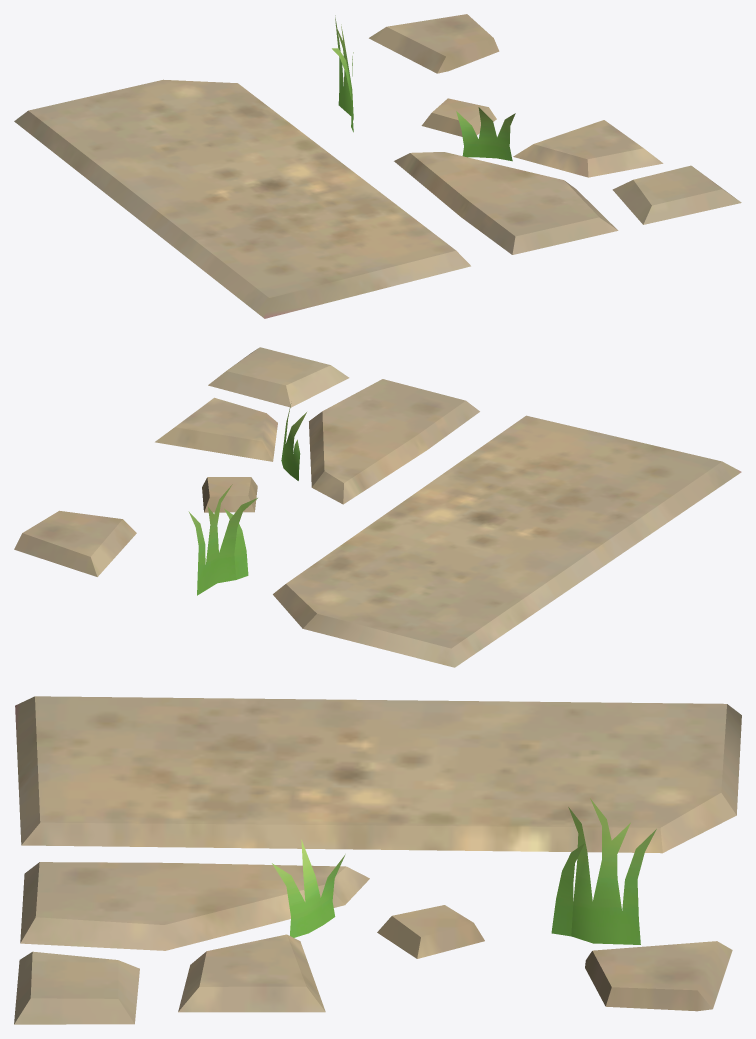
The model's file is Misc_StonePath3.fbx.
3 views of the same model, one above another, from view 1: azimuth 30°, elevation 25°; view 2: azimuth 150°, elevation 25°; view 3: azimuth 270°, elevation 25° (orthographic). The views are drawn at different scales.
Visible parts, largest first — view 1: stonepath3; view 2: stonepath3; view 3: stonepath3.
Part boxes in pixels (x1,y1,x2,y2): stonepath3: (14,14,741,318); stonepath3: (14,347,741,667); stonepath3: (14,696,741,1024).
Size of the model in its own units: 2.33 by 0.4645 by 2.24.
